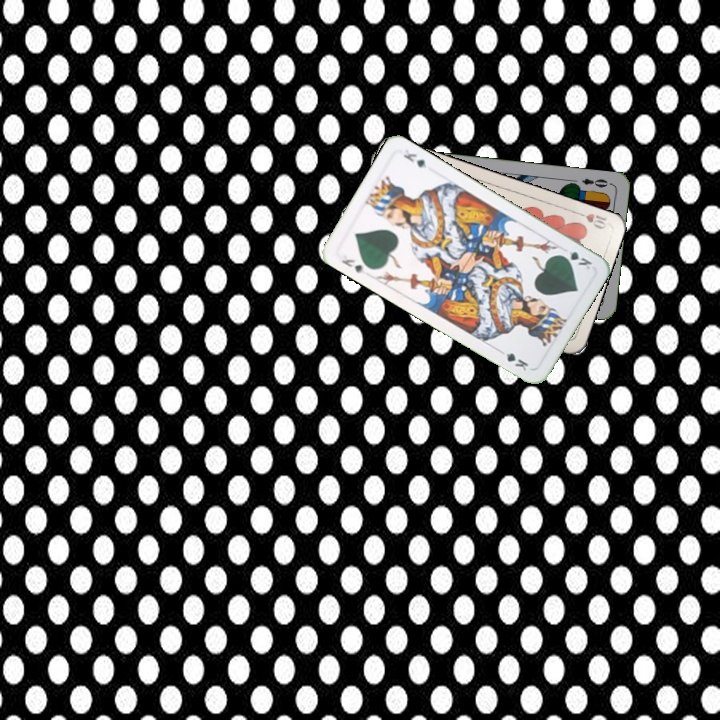EO: (578, 174, 614, 190)
GK: (556, 247, 595, 273), (337, 255, 368, 276)
H10: (571, 207, 609, 232)
